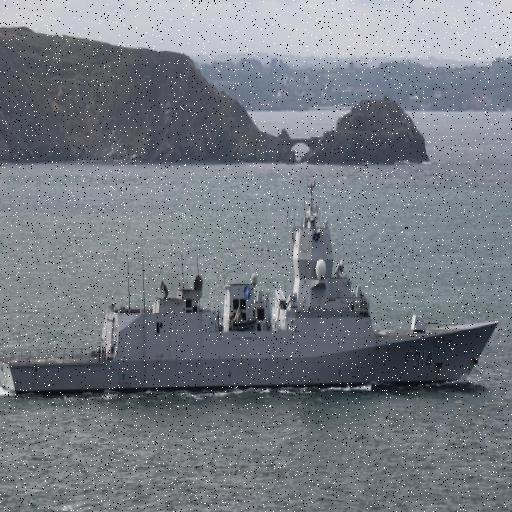Fragata: (1, 166, 508, 404)
